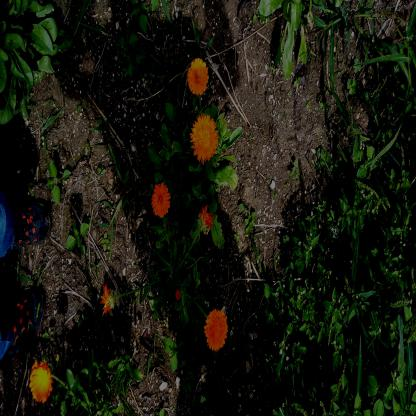marigold: (192, 116, 216, 161), (32, 361, 53, 401), (205, 312, 226, 350), (188, 58, 207, 95), (151, 185, 169, 215)
